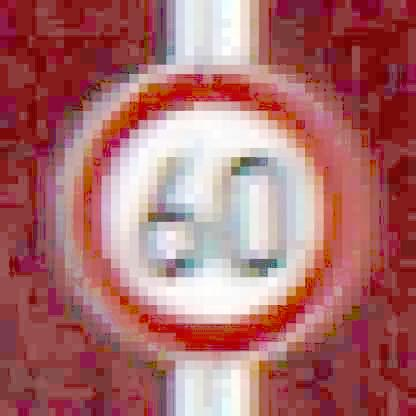Speed Limit -60-: (46, 60, 356, 365)
